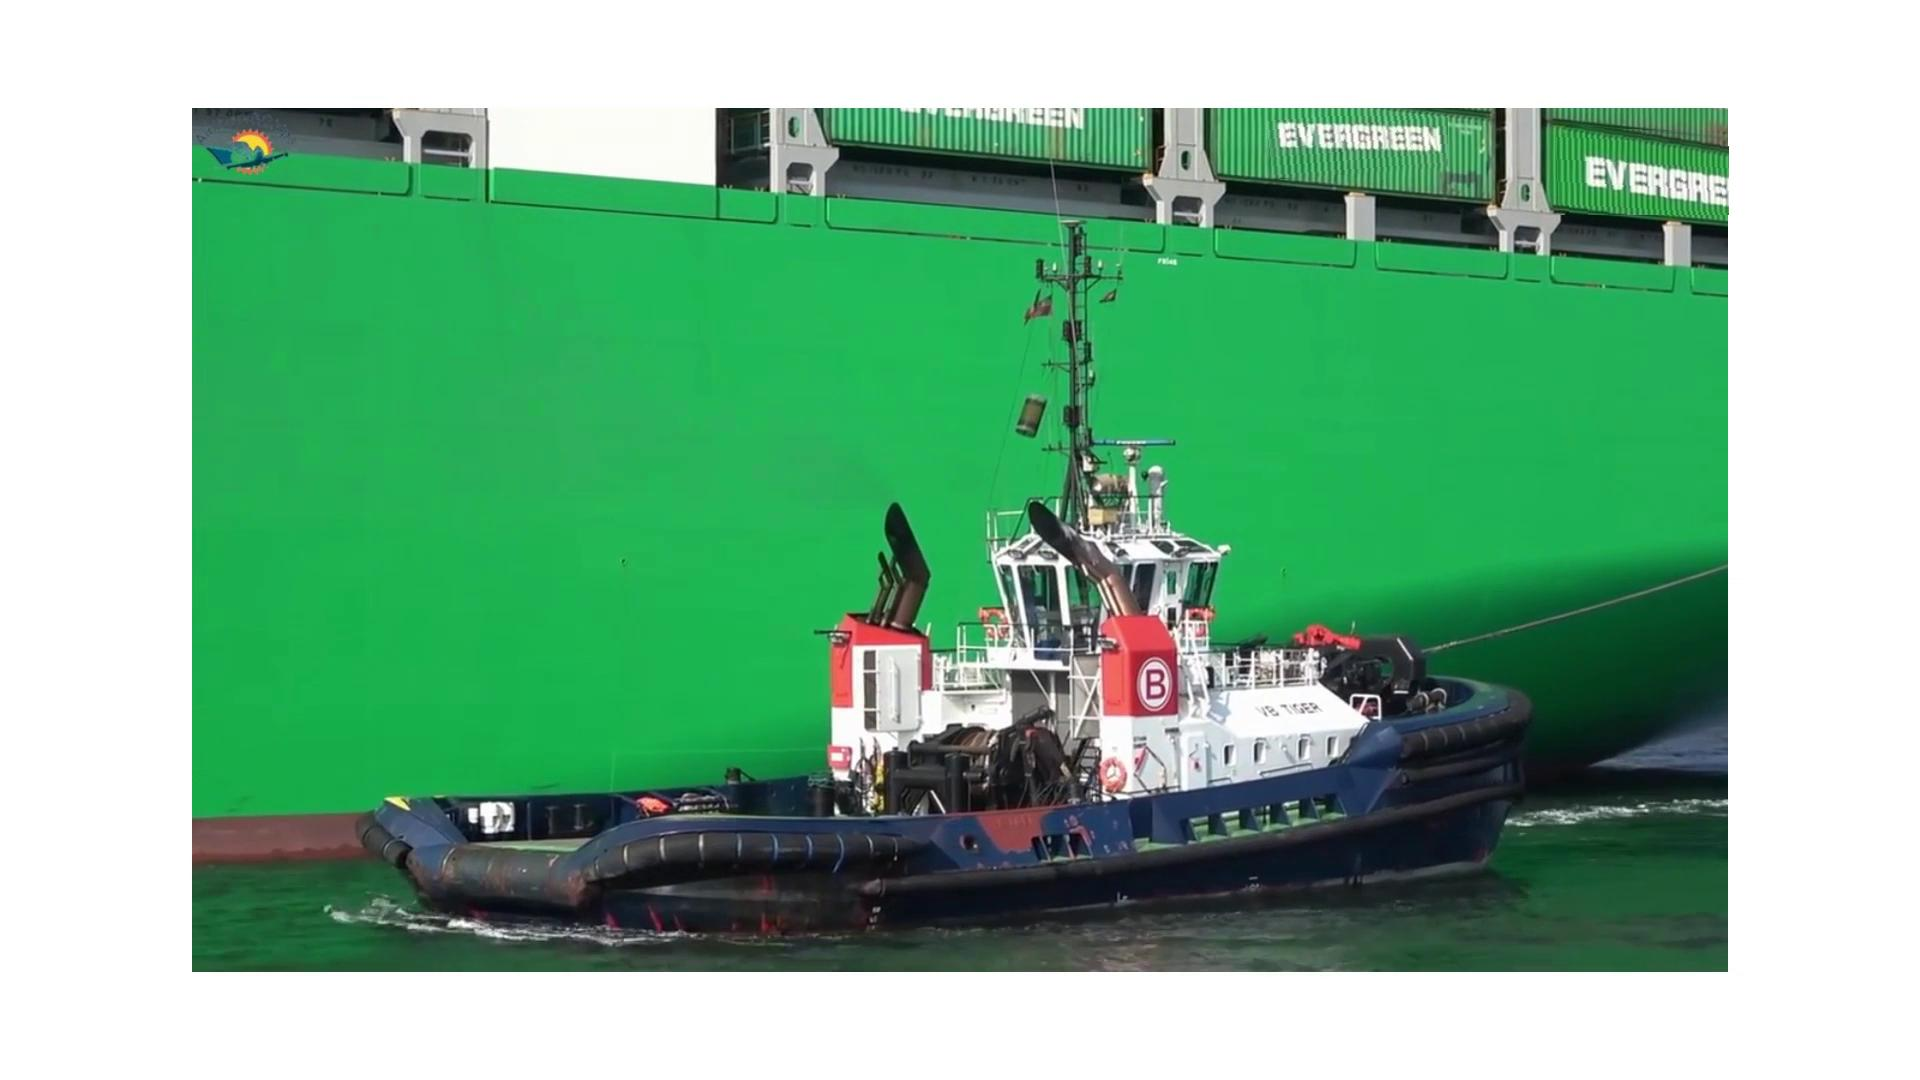OCR: (1555, 125, 1729, 215), (1266, 116, 1448, 181)
